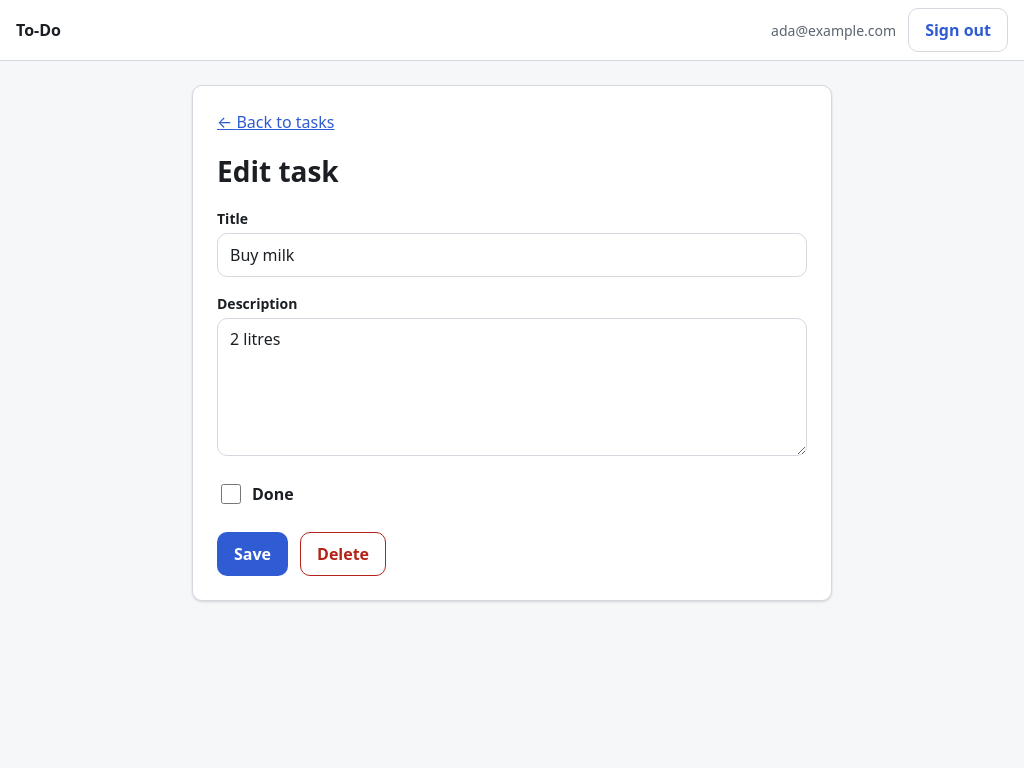
TaskDetailPage › saves edits
Replace the text in the field labelled "Title" with "Buy oat milk" at (512, 255), box [217, 233, 807, 277]
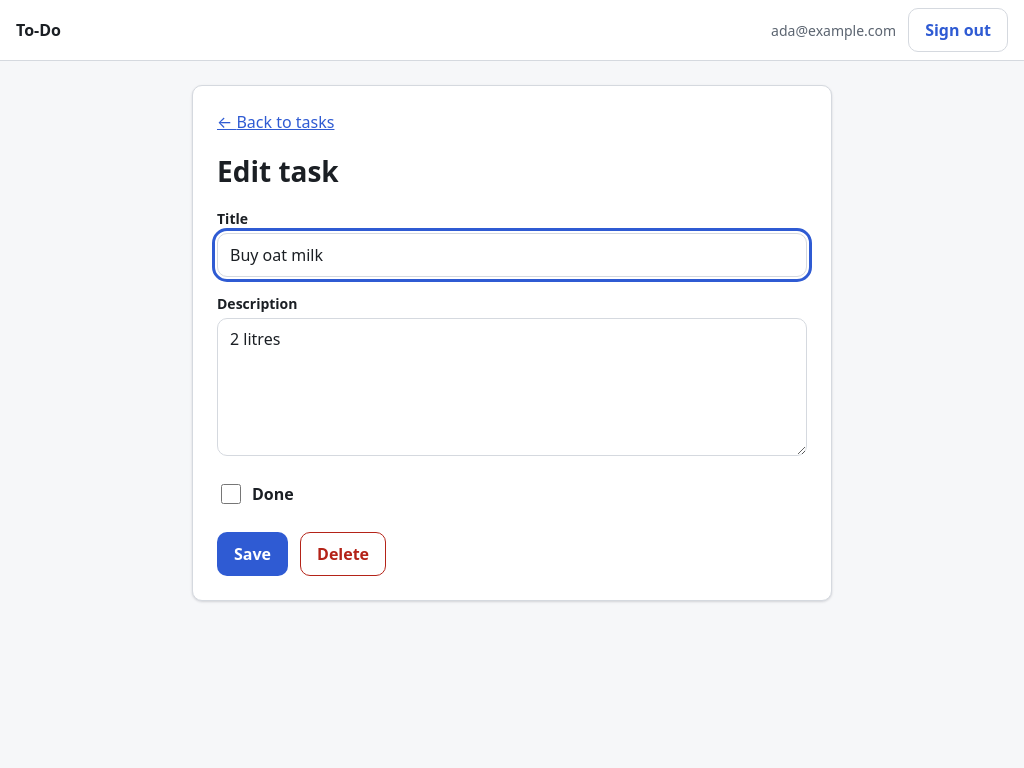
Click the checkbox labelled "Done" at (231, 494), box [221, 484, 241, 504]
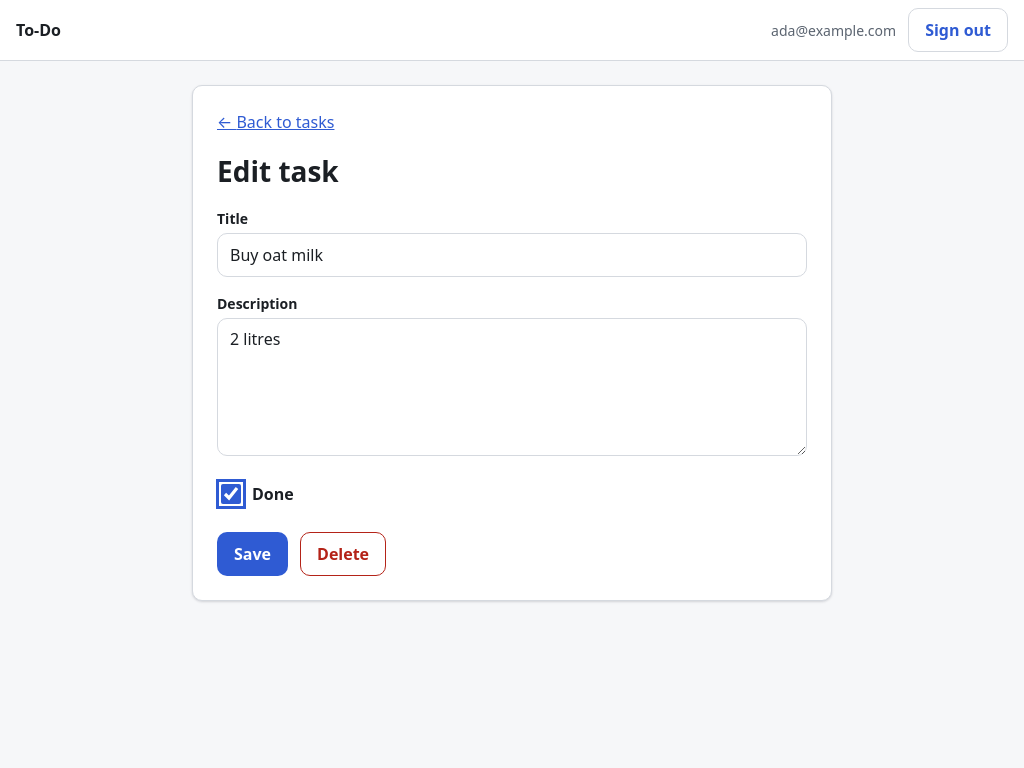
Click the button "Save" at (252, 554), box [217, 532, 288, 576]
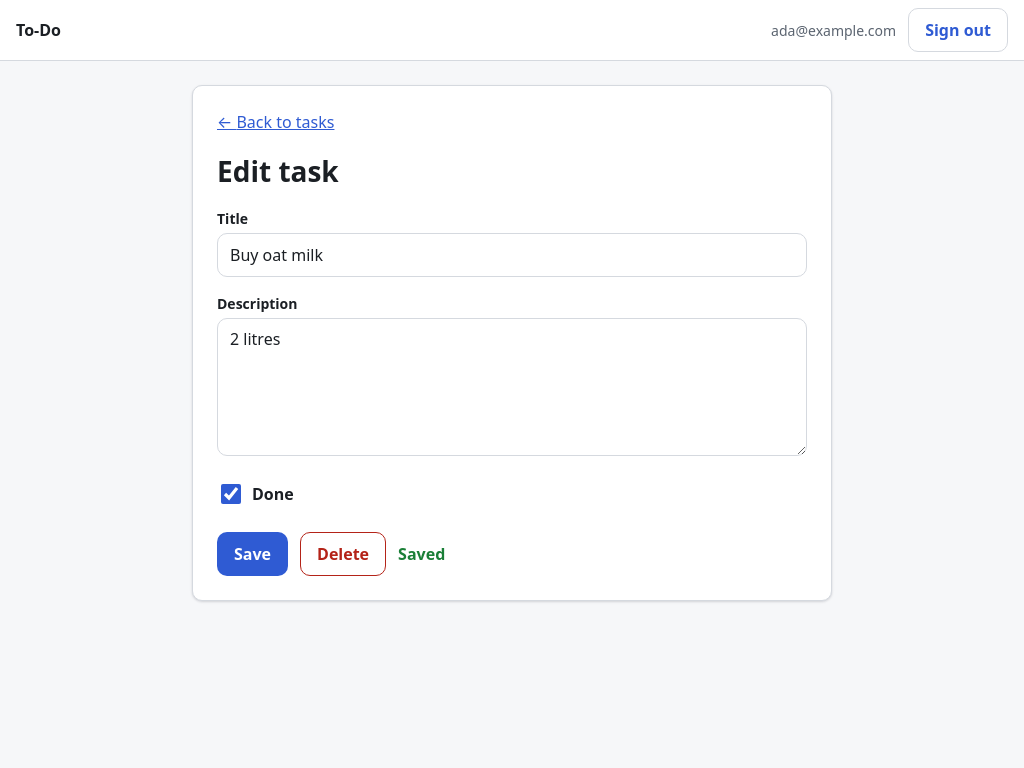
Result: the message reads "Saved" at [398, 543, 445, 565]
